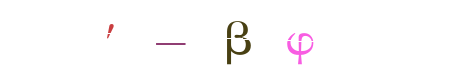2: (184, 0, 264, 80)
9: (143, 0, 223, 80)
B: (196, 0, 276, 80)
W: (253, 0, 333, 80)
